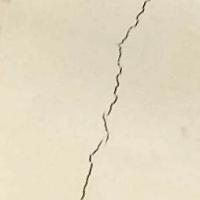crack: (67, 0, 159, 199)
